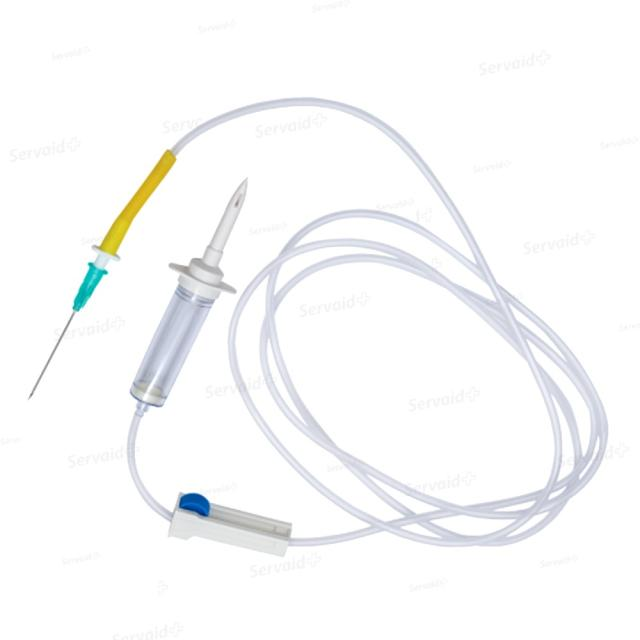B3: (27, 83, 614, 597)
